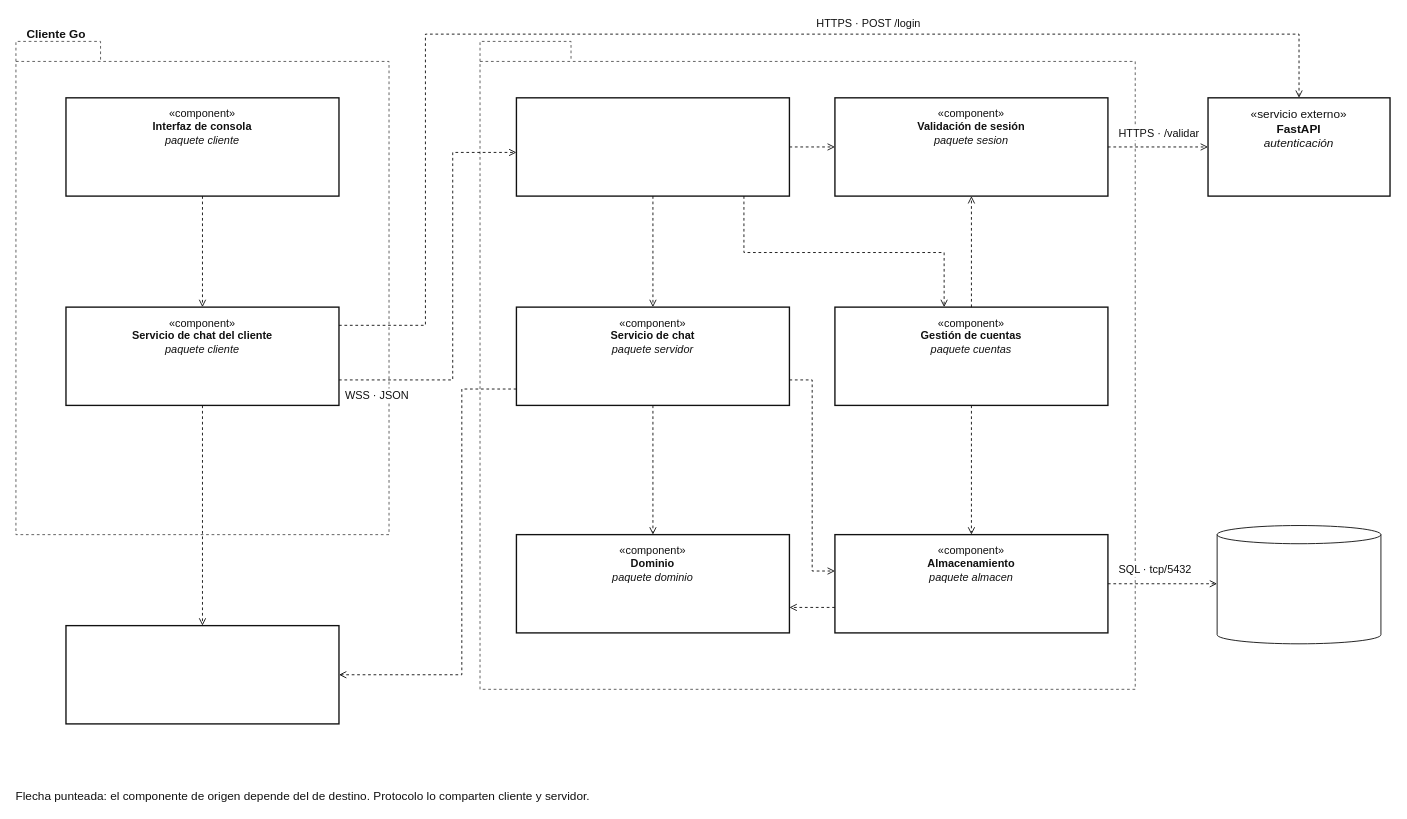
Image size: 1407x819. Some labels were removed from this diagram. The shapes that lost their labels are listed below. From the top down, each one's box as (x1, y1, x2, y2) in pixels, then its label:
(515, 97, 790, 196): «component» Manejadores WebSocket paquete servidor
(479, 40, 1135, 689): Servidor Go
(1216, 525, 1381, 644): «base de datos» PostgreSQL
(65, 625, 339, 724): «component» Protocolo paquete protocolo
